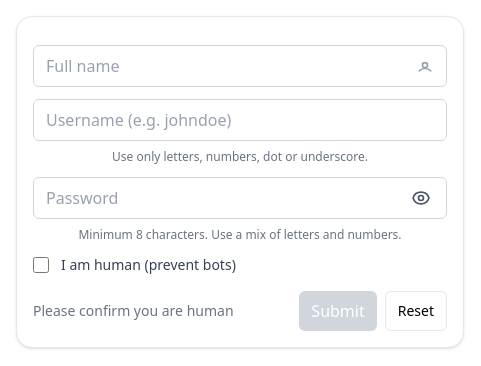
Scenario: InputField (Form Component) › enables submit button only when "I am human" is checked
Expected: the button "Submit" is disabled, [299,291,377,331]
Step 1. Click the checkbox → (41, 265), box [33,257,49,273]
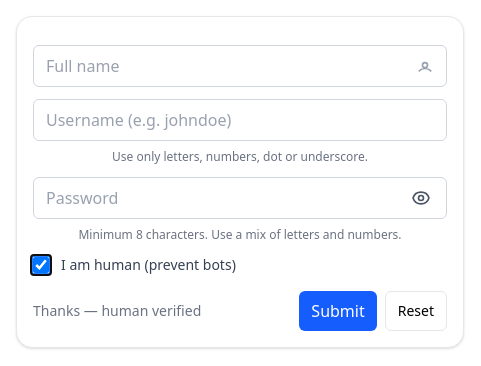
Now the button "Submit" is enabled, box [299,291,377,331]
Step 2. Click the checkbox → (41, 265), box [33,257,49,273]
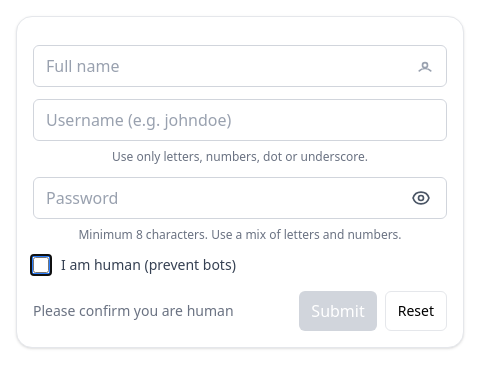
Now the button "Submit" is disabled, box [299,291,377,331]
